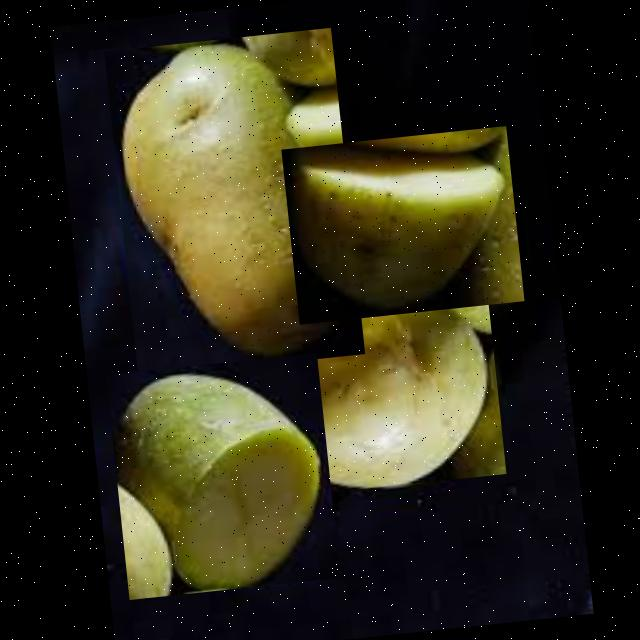Defected potato: (102, 28, 364, 378), (105, 352, 339, 600), (255, 274, 505, 498), (280, 126, 523, 324)
